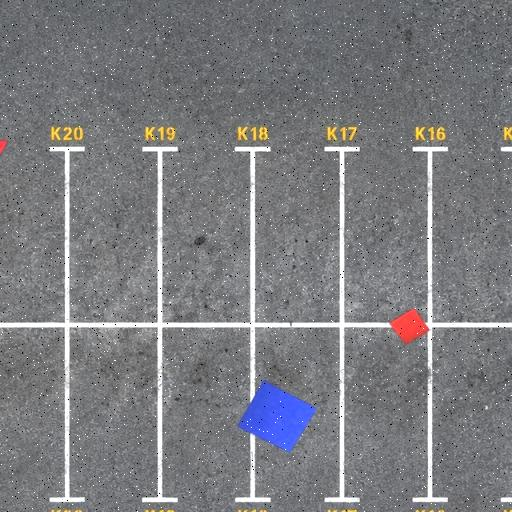BLUE_SQUARE: (236, 379, 318, 453)
RED_SQUARE: (388, 307, 430, 346)
